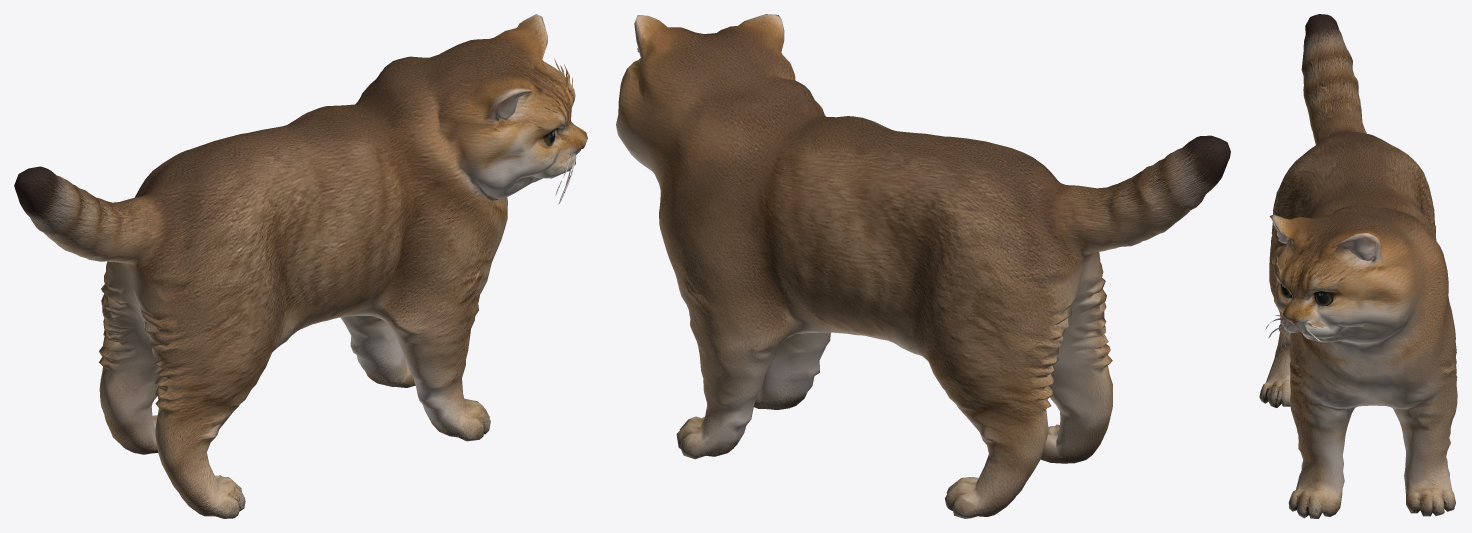
The model's file is hosico-cat.glb.
The picture shows the model from 3 angles, left to right: view 1: azimuth 30°, elevation 25°; view 2: azimuth 150°, elevation 25°; view 3: azimuth 270°, elevation 25°; orthographic projection. The views are drawn at different scales.
Parts seen in each view (by area): view 1: tripo_node_75361750-a0cc-4065-b160-84271212cbf1; view 2: tripo_node_75361750-a0cc-4065-b160-84271212cbf1; view 3: tripo_node_75361750-a0cc-4065-b160-84271212cbf1.
Boxes of the visible parts, left/top/right/bottom form: tripo_node_75361750-a0cc-4065-b160-84271212cbf1: left=14, top=14, right=587, bottom=518; tripo_node_75361750-a0cc-4065-b160-84271212cbf1: left=616, top=14, right=1230, bottom=518; tripo_node_75361750-a0cc-4065-b160-84271212cbf1: left=1259, top=14, right=1457, bottom=518.
Bounding box in the file's own units: 1.59 × 1 × 0.5554.
1 material, 1 textured.
